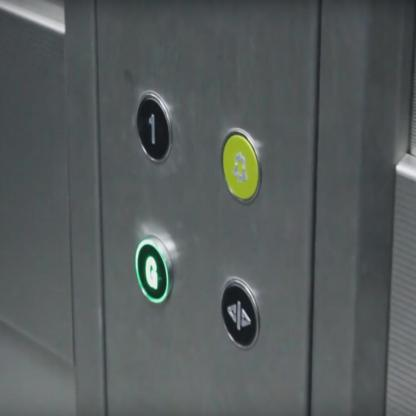1: (133, 86, 175, 165)
G: (134, 233, 176, 308)
alarm: (218, 122, 262, 206)
open: (219, 274, 261, 352)
